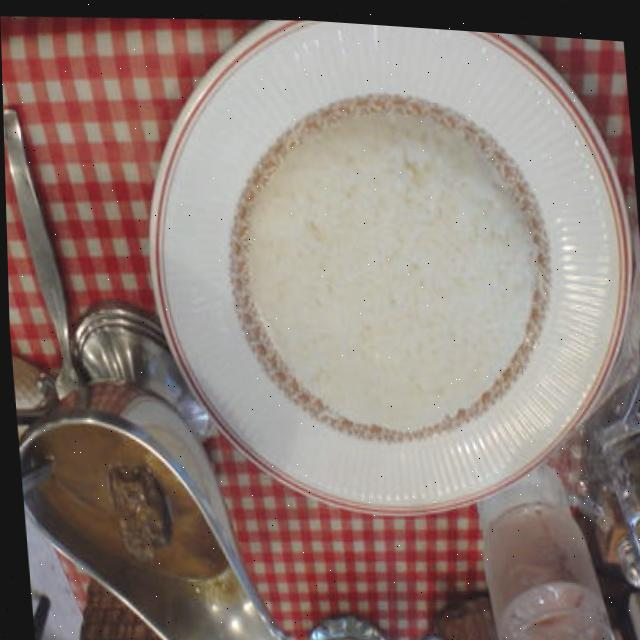牛肉菜式: (1, 24, 640, 640)
